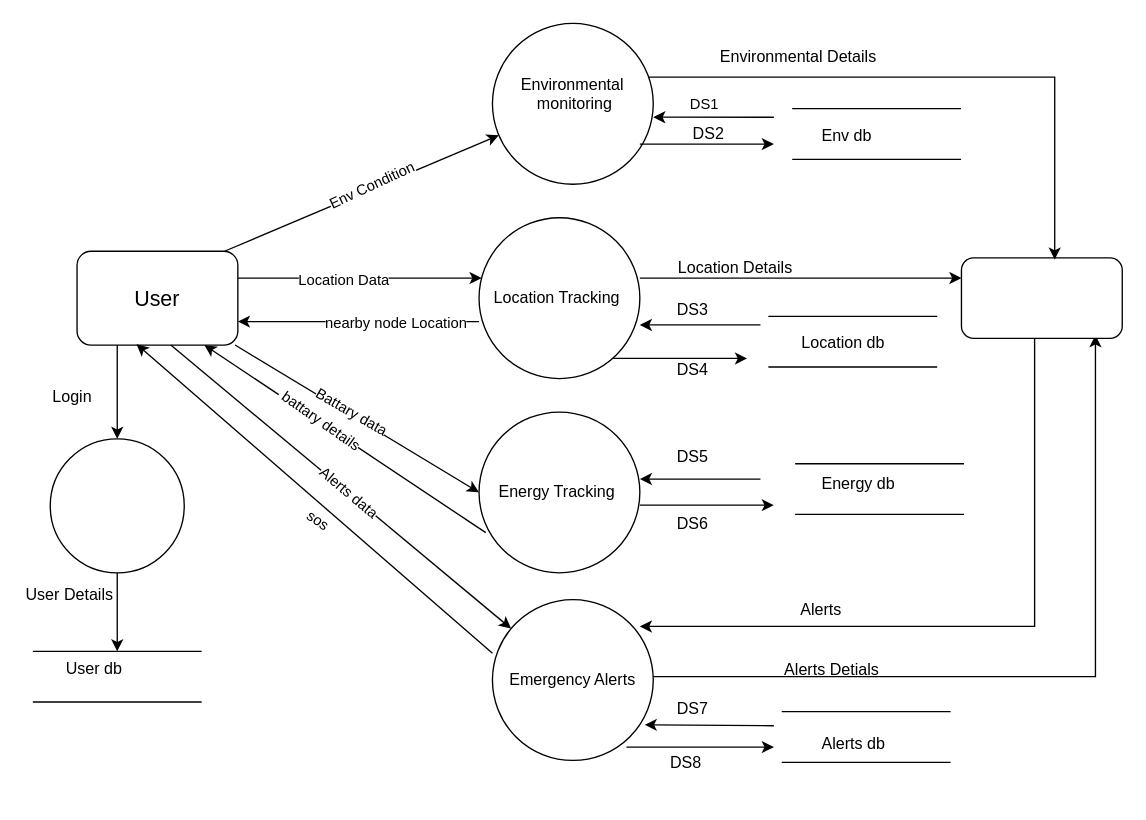
Image size: 1146x820. Some labels were removed from this diagram. The shapes that lost their labels are listed below. From the top down, each one's centre as x and y in pixels, then its label:
At (x=1041, y=297): "Admin".
At (x=116, y=505): "Authenticate".
